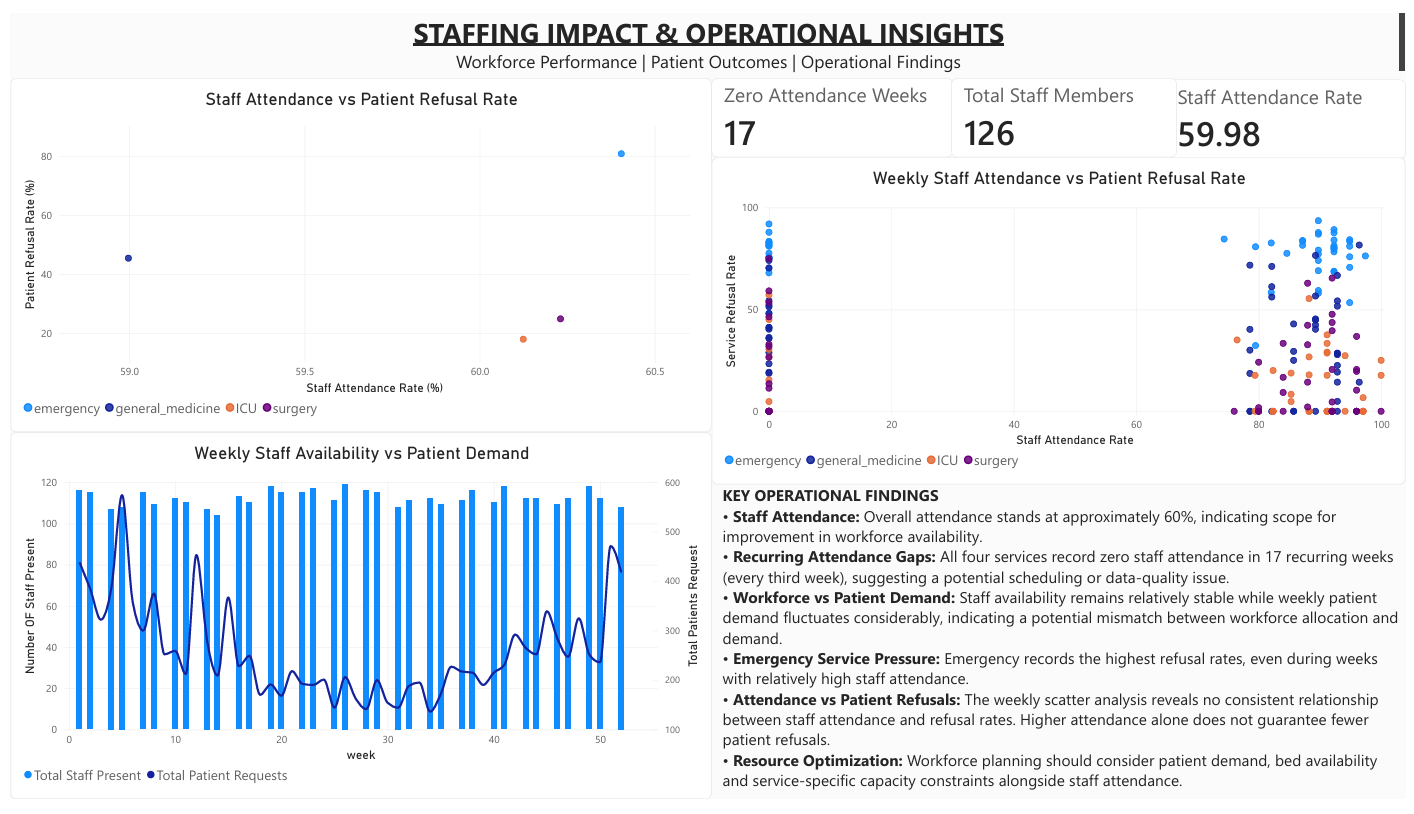

The dashboard page shown, as its layout file describes it:
{"tool":"powerbi","page":{"name":"Staffing Impact & Operational Insights","canvas":[1920,1080],"ordinal":4},"visuals":[{"type":"textbox","box":[10.3,0,1910.1,88.5],"z":0},{"type":"scatterChart","title":"Staff Attendance vs Patient Refusal Rate","fields":{"Category":["Dim_service.service"],"Series":["Dim_service.service"],"X":["Hospital_Operations_Analysis - Services_weekly_SQL.Staff Attendance Rate"],"Y":["Hospital_Operations_Analysis - Services_weekly_SQL.Service Refusal Rate"]},"box":[0,88.5,965.4,487.8],"z":1000},{"type":"lineClusteredColumnComboChart","title":"Weekly Staff Availability vs Patient Demand","fields":{"Category":["Dim_Week.week"],"Y":["Hospital_Operations_Analysis - Staff_Schedule.Total Staff Present"],"Y2":["Hospital_Operations_Analysis - Services_weekly_SQL.Total Patient Requests"]},"box":[0,576.3,965.4,504.3],"z":2000},{"type":"cardVisual","fields":{"Data":["Hospital_Operations_Analysis - Staff_SQL.Zero Attendance Weeks"]},"box":[965.4,88.5,331.4,109.1],"z":3000},{"type":"cardVisual","fields":{"Data":["Hospital_Operations_Analysis - Services_weekly_SQL.Staff Attendance Rate"]},"box":[1589,90.6,331.4,109.1],"z":4000},{"type":"cardVisual","fields":{"Data":["Hospital_Operations_Analysis - Staff_Schedule.Total Staff Members"]},"box":[1294.7,88.5,310.8,109.1],"z":5000},{"type":"scatterChart","title":"Weekly Staff Attendance vs Patient Refusal Rate","fields":{"Category":["Dim_Week.week"],"Series":["Dim_service.service"],"X":["Hospital_Operations_Analysis - Services_weekly_SQL.Staff Attendance Rate"],"Y":["Hospital_Operations_Analysis - Services_weekly_SQL.Service Refusal Rate"]},"box":[965.4,197.6,955.1,450.8],"z":6000},{"type":"textbox","box":[979.8,648.4,940.7,432.2],"z":7000}]}

Visuals, with their boxes in screenshot pixels (x1, y1, x2, y2), scaled from the page's 1920x1080 canvas onto the 1414x814 screenshot:
textbox: (8,0,1413,67)
"Staff Attendance vs Patient Refusal Rate" scatterChart: (0,67,711,434)
"Weekly Staff Availability vs Patient Demand" lineClusteredColumnComboChart: (0,434,711,813)
cardVisual - Hospital_Operations_Analysis - Staff_SQL.Zero Attendance Weeks: (711,67,955,149)
cardVisual - Hospital_Operations_Analysis - Services_weekly_SQL.Staff Attendance Rate: (1170,68,1413,151)
cardVisual - Hospital_Operations_Analysis - Staff_Schedule.Total Staff Members: (953,67,1182,149)
"Weekly Staff Attendance vs Patient Refusal Rate" scatterChart: (711,149,1413,489)
textbox: (722,489,1413,813)
